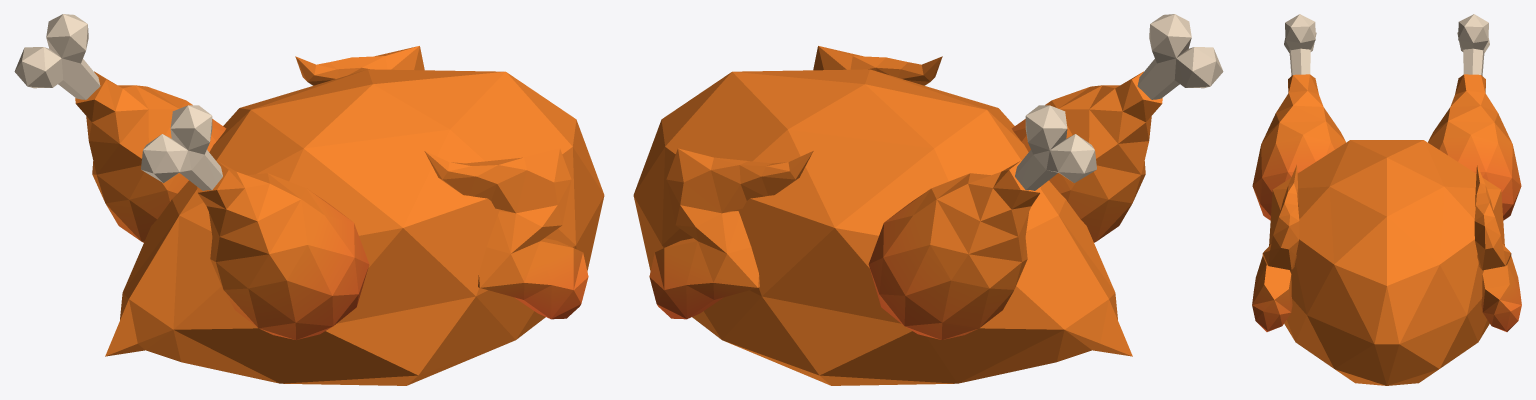
Rendered from friedChicken.FBX.
3 views of the same model, side by side, from view 1: azimuth 30°, elevation 25°; view 2: azimuth 150°, elevation 25°; view 3: azimuth 270°, elevation 25° (orthographic). The views are drawn at different scales.
Parts seen in each view (by area): view 1: friedChicken; view 2: friedChicken; view 3: friedChicken.
Part boxes in pixels (box(x1,y1,x2,y2)): friedChicken: box(14, 14, 604, 385); friedChicken: box(633, 14, 1223, 385); friedChicken: box(1252, 14, 1521, 385).
Bounding box in the file's own units: 5.79 × 4.02 × 3.78.
